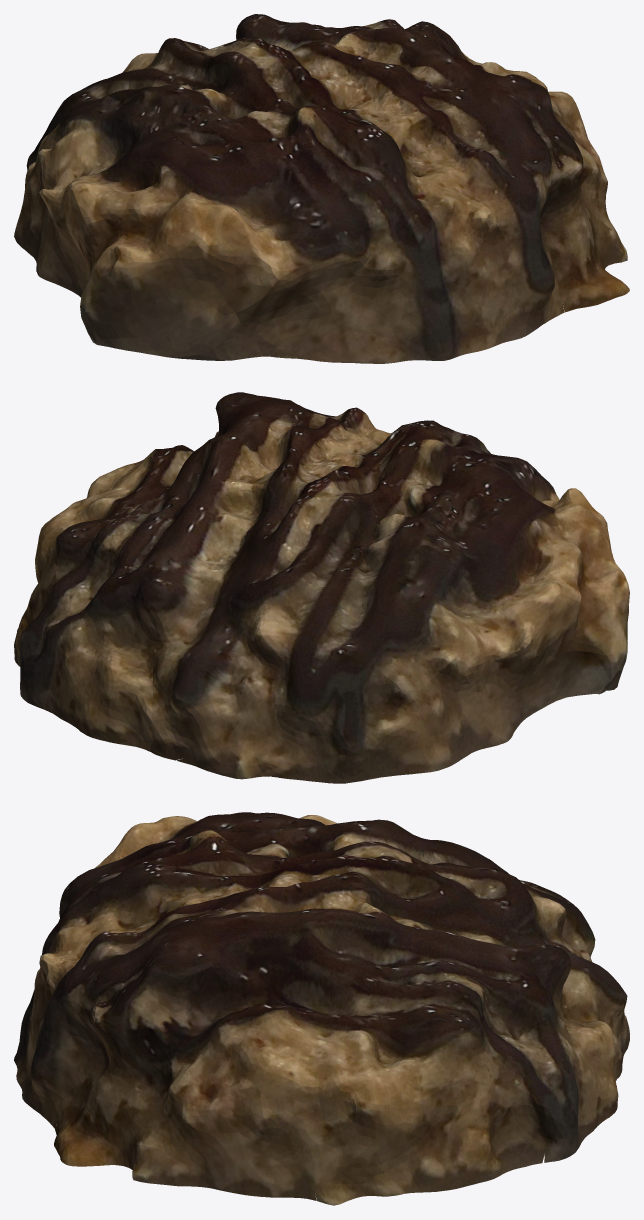
Rendered from almond-butter-coconut-macaroons.gltf.
3 renders of one model, top to bottom at view 1: azimuth 30°, elevation 25°; view 2: azimuth 150°, elevation 25°; view 3: azimuth 270°, elevation 25°, orthographic. The views are drawn at different scales.
Size of the model in its own units: 0.4798 by 0.1634 by 0.4496.
1 material, 1 textured.
